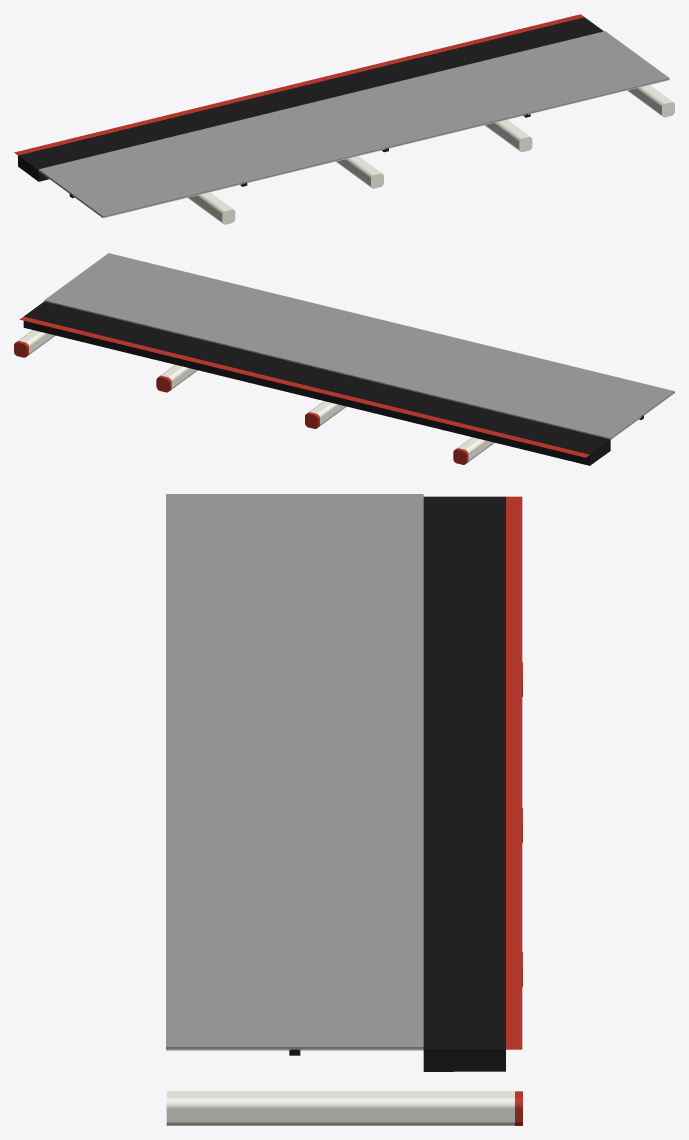
File: Window_Wall v9.fbx
3 renders of one model, top to bottom at view 1: azimuth 30°, elevation 25°; view 2: azimuth 150°, elevation 25°; view 3: azimuth 270°, elevation 25°, orthographic. The views are drawn at different scales.
Visible parts, largest first — view 1: Body1 (×8); view 2: Body1 (×7); view 3: Body1 (×4).
Part boxes in pixels (bbox=[...]): Body1 (×8): bbox=[14, 14, 674, 224]; Body1 (×7): bbox=[18, 253, 674, 465]; Body1 (×4): bbox=[166, 494, 522, 1125].
Size of the model in its own units: 481 by 31 by 130.
